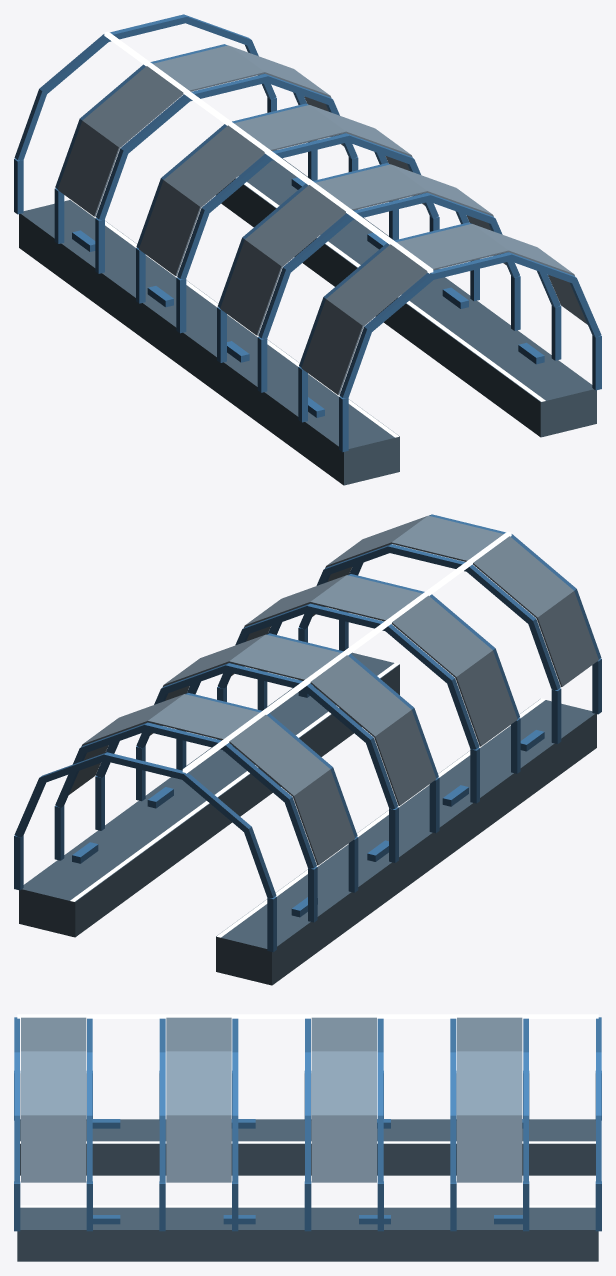
Rendered from shaddai_station_arctic_v01.glb.
The picture shows the model from 3 angles, top to bottom: view 1: azimuth 30°, elevation 25°; view 2: azimuth 150°, elevation 25°; view 3: azimuth 270°, elevation 25°; orthographic projection. The views are drawn at different scales.
Visible parts, largest first — view 1: shaddai_station_arctic; view 2: shaddai_station_arctic; view 3: shaddai_station_arctic.
Part boxes in pixels (x1,y1,x2,y2): shaddai_station_arctic: (14,14,601,485); shaddai_station_arctic: (14,514,601,985); shaddai_station_arctic: (14,1014,601,1261).
Size of the model in its own units: 18.56 by 13.2 by 40.44.
